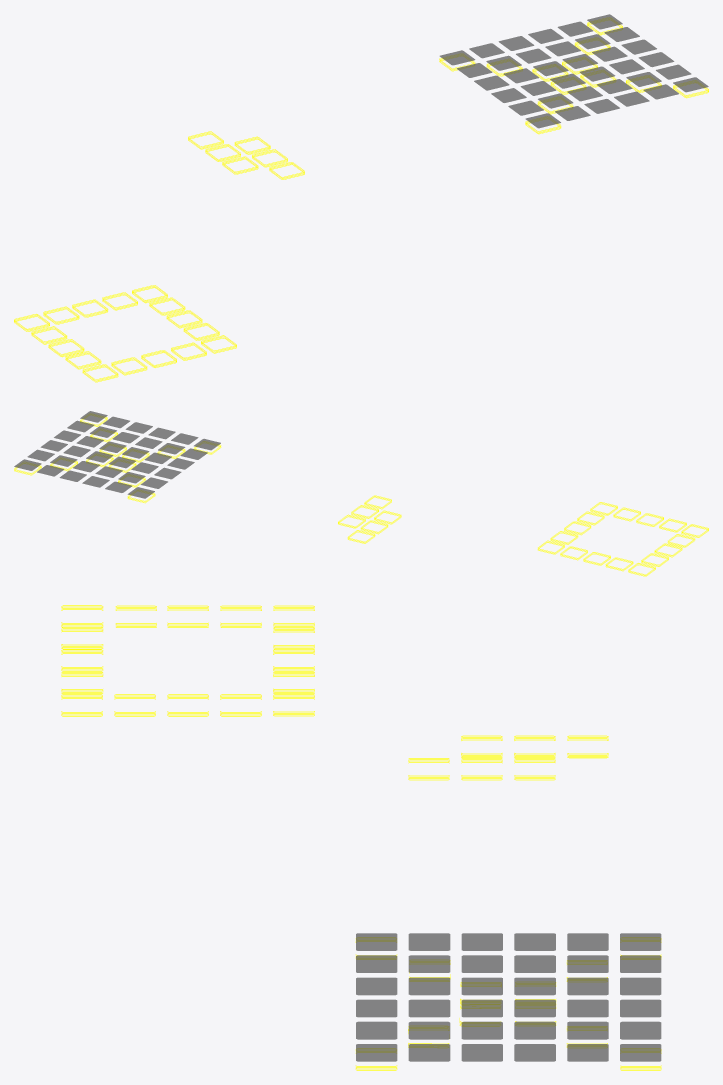
Rendered from 5ron.fbx.
The picture shows the model from 3 angles, top to bottom: view 1: azimuth 30°, elevation 25°; view 2: azimuth 150°, elevation 25°; view 3: azimuth 270°, elevation 25°; orthographic projection. The views are drawn at different scales.
Visible parts, largest first — view 1: Cube.252, Cube.003, Cube.001, Cube.007, Cube.387, Cube.004, Cube.388; view 2: Cube.252, Cube.001, Cube.007, Cube.387, Cube.003, Cube.004, Cube.388; view 3: Cube.252, Cube.388, Cube.387, Cube.001, Cube.004, Cube.007, Cube.003.
Part boxes in pixels (x1=…): Cube.252: x1=439, y1=14, x2=708, y2=128; Cube.003: x1=166, y1=310, x2=236, y2=353; Cube.001: x1=14, y1=314, x2=84, y2=357; Cube.007: x1=111, y1=342, x2=206, y2=375; Cube.387: x1=234, y1=136, x2=304, y2=179; Cube.004: x1=72, y1=285, x2=167, y2=317; Cube.388: x1=188, y1=131, x2=258, y2=174; Cube.252: x1=14, y1=411, x2=220, y2=498; Cube.001: x1=628, y1=543, x2=682, y2=576; Cube.007: x1=613, y1=507, x2=686, y2=532; Cube.387: x1=338, y1=495, x2=391, y2=528; Cube.003: x1=564, y1=502, x2=617, y2=535; Cube.004: x1=537, y1=540, x2=610, y2=565; Cube.388: x1=347, y1=510, x2=401, y2=543; Cube.252: x1=356, y1=933, x2=661, y2=1061; Cube.388: x1=461, y1=735, x2=608, y2=758; Cube.387: x1=408, y1=758, x2=555, y2=780; Cube.001: x1=167, y1=605, x2=314, y2=627; Cube.004: x1=273, y1=649, x2=314, y2=716; Cube.007: x1=61, y1=627, x2=103, y2=693; Cube.003: x1=61, y1=694, x2=208, y2=716.
Size of the model in its own units: 221053 by 15720 by 105278.
